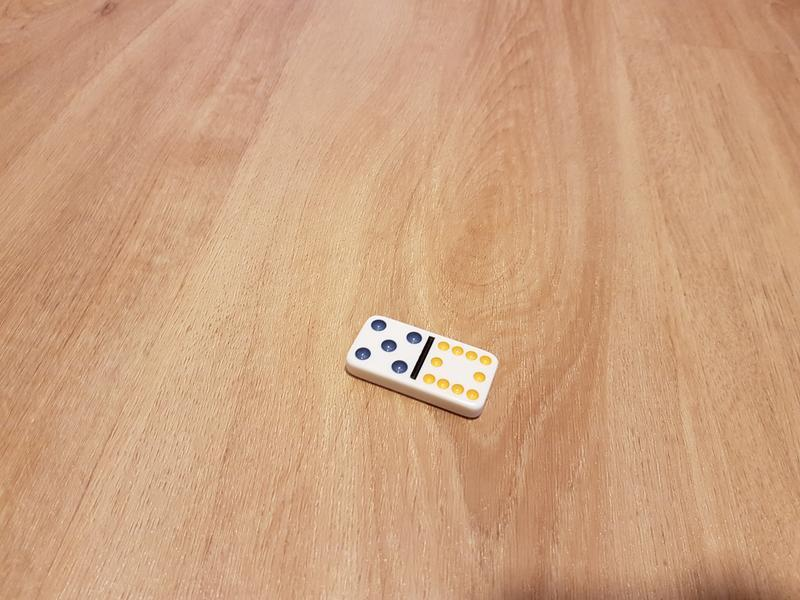Domino: (344, 313, 500, 420)
